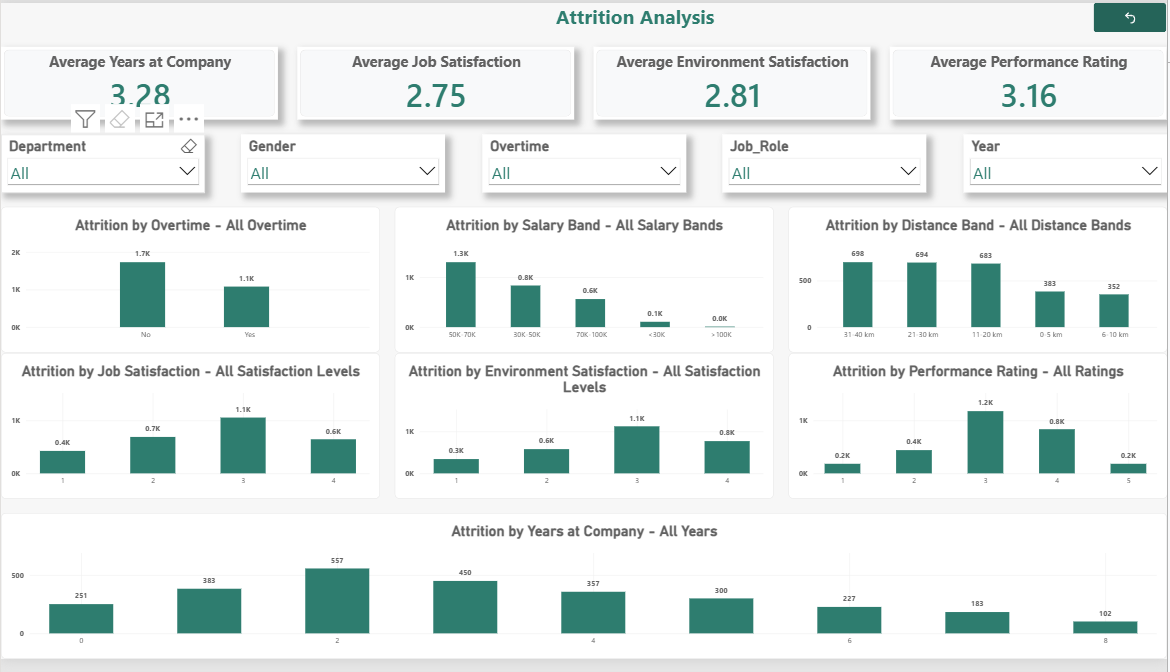

This screenshot's page, from the dashboard's own definition file:
{"tool":"powerbi","page":{"name":"Attrition Analysis","canvas":[1920,1080],"ordinal":1},"visuals":[{"type":"textbox","box":[264,0,1392,48],"z":0},{"type":"cardVisual","fields":{"Data":["FactEmployee.Average Years at Company"]},"box":[0,72,456,120],"z":1000},{"type":"cardVisual","fields":{"Data":["FactEmployee.Average Job Satisfaction"]},"box":[488,72,456,120],"z":2000},{"type":"cardVisual","fields":{"Data":["FactEmployee.Average Environment Satisfaction"]},"box":[976,72,456,120],"z":3000},{"type":"cardVisual","fields":{"Data":["FactEmployee.Average Performance Rating"]},"box":[1464,72,456,120],"z":4000},{"type":"clusteredColumnChart","fields":{"Category":["FactEmployee.Overtime"],"Y":["FactEmployee.Attrition Count"]},"box":[0,336,624,240],"z":5000},{"type":"clusteredColumnChart","fields":{"Y":["FactEmployee.Attrition Count"],"Category":["FactEmployee.Salary_band"]},"box":[648,336,624,240],"z":6000},{"type":"clusteredColumnChart","fields":{"Y":["FactEmployee.Attrition Count"],"Category":["FactEmployee.Distance_Band"]},"box":[1296,336,624,240],"z":7000},{"type":"clusteredColumnChart","fields":{"Y":["FactEmployee.Attrition Count"],"Category":["FactEmployee.Job_Satisfaction"]},"box":[0,576,624,240],"z":8000},{"type":"clusteredColumnChart","fields":{"Y":["FactEmployee.Attrition Count"],"Category":["FactEmployee.Environment_Satisfaction"]},"box":[648,576,624,240],"z":9000},{"type":"clusteredColumnChart","fields":{"Y":["FactEmployee.Attrition Count"],"Category":["FactEmployee.Performance_Rating"]},"box":[1296,576,624,240],"z":10000},{"type":"clusteredColumnChart","fields":{"Y":["FactEmployee.Attrition Count"],"Category":["FactEmployee.Years_at_Company"]},"box":[0,840,1920,240],"z":11000},{"type":"slicer","fields":{"Values":["FactEmployee.Department"]},"box":[0,216,336,96],"z":12000},{"type":"slicer","fields":{"Values":["FactEmployee.Job_Role"]},"box":[1188,216,336,96],"z":13000},{"type":"slicer","fields":{"Values":["FactEmployee.Gender"]},"box":[396,216,336,96],"z":14000},{"type":"slicer","fields":{"Values":["FactEmployee.Overtime"]},"box":[792,216,336,96],"z":15000},{"type":"slicer","fields":{"Values":["DimDate.Year"]},"box":[1584,216,336,96],"z":16000},{"type":"actionButton","box":[1800,0,120,48],"z":17000}]}

Visuals, with their boxes on the page's 1920x1080 design canvas (x1, y1, x2, y2). These are canvas units, not pixel positions in the 1170x672 screenshot, which may show the page scaled, cropped or inside an application window:
textbox: (264, 0, 1656, 48)
cardVisual - FactEmployee.Average Years at Company: (0, 72, 456, 192)
cardVisual - FactEmployee.Average Job Satisfaction: (488, 72, 944, 192)
cardVisual - FactEmployee.Average Environment Satisfaction: (976, 72, 1432, 192)
cardVisual - FactEmployee.Average Performance Rating: (1464, 72, 1920, 192)
clusteredColumnChart - FactEmployee.Overtime x FactEmployee.Attrition Count: (0, 336, 624, 576)
clusteredColumnChart - FactEmployee.Attrition Count x FactEmployee.Salary_band: (648, 336, 1272, 576)
clusteredColumnChart - FactEmployee.Attrition Count x FactEmployee.Distance_Band: (1296, 336, 1920, 576)
clusteredColumnChart - FactEmployee.Attrition Count x FactEmployee.Job_Satisfaction: (0, 576, 624, 816)
clusteredColumnChart - FactEmployee.Attrition Count x FactEmployee.Environment_Satisfaction: (648, 576, 1272, 816)
clusteredColumnChart - FactEmployee.Attrition Count x FactEmployee.Performance_Rating: (1296, 576, 1920, 816)
clusteredColumnChart - FactEmployee.Attrition Count x FactEmployee.Years_at_Company: (0, 840, 1920, 1080)
slicer - FactEmployee.Department: (0, 216, 336, 312)
slicer - FactEmployee.Job_Role: (1188, 216, 1524, 312)
slicer - FactEmployee.Gender: (396, 216, 732, 312)
slicer - FactEmployee.Overtime: (792, 216, 1128, 312)
slicer - DimDate.Year: (1584, 216, 1920, 312)
actionButton: (1800, 0, 1920, 48)
